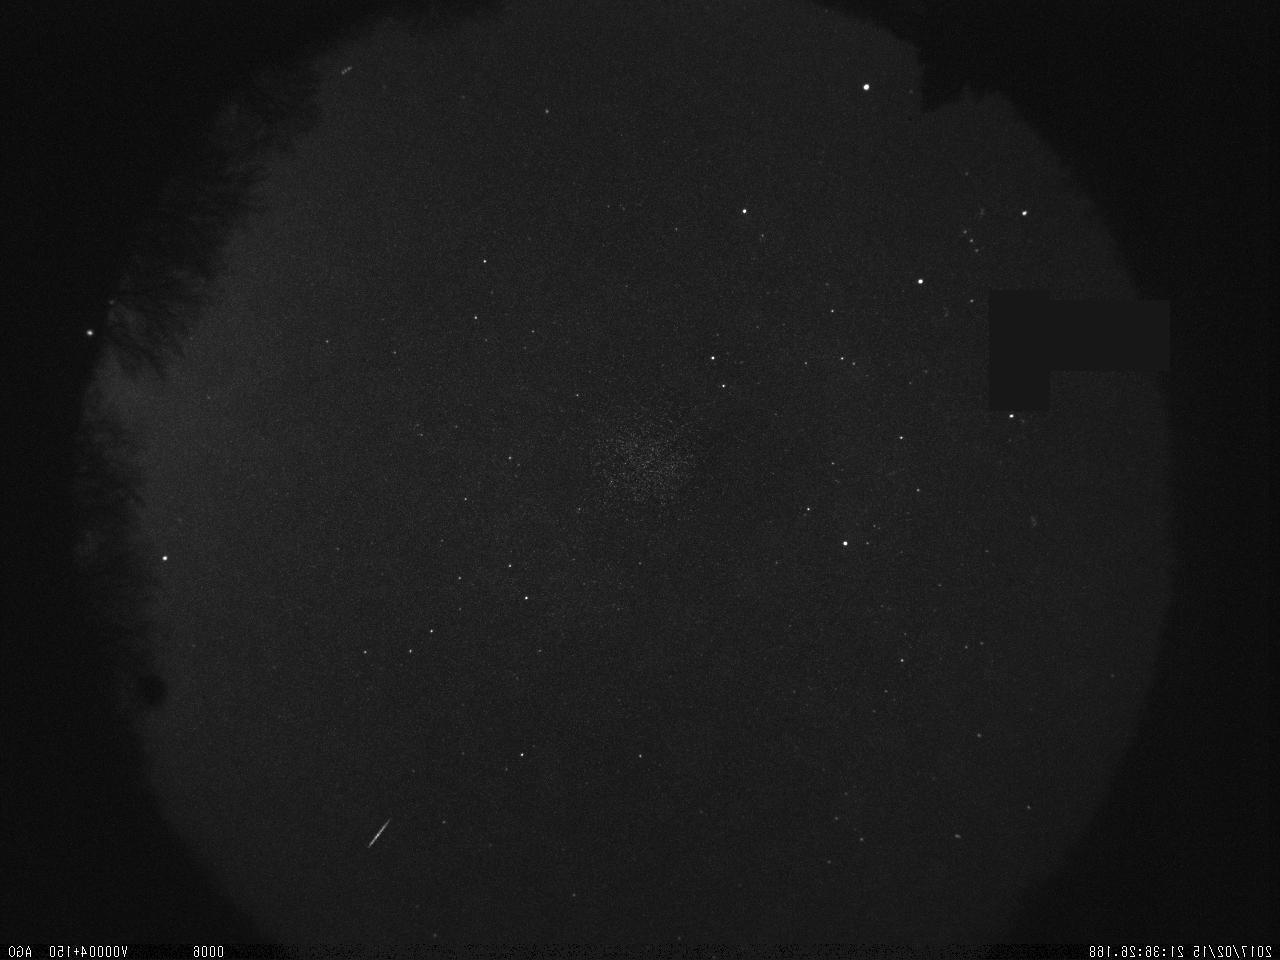meteor: (359, 805, 398, 860)
